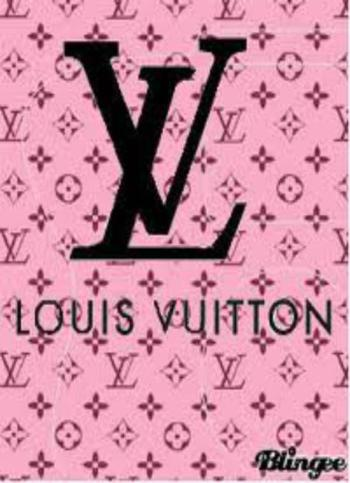LOUIS-VUITTON: (48, 32, 261, 267), (4, 289, 340, 348)
